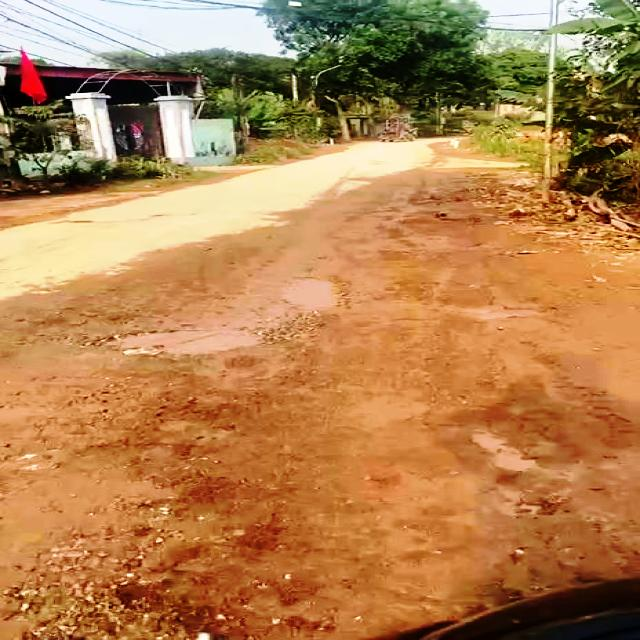pothole: (99, 324, 272, 356), (273, 272, 346, 312)
